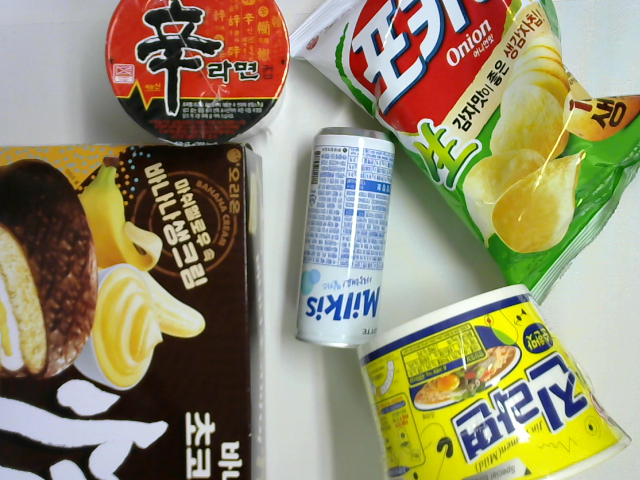Choco_Pie_Banana: (1, 143, 267, 480)
Jinlamyeon_Mild_Taste_Large_Cup: (351, 277, 635, 480)
Milkies_250ml: (293, 126, 396, 350)
Pocachip_Onion: (290, 1, 640, 306)
Sinramen_small: (103, 1, 293, 145)
